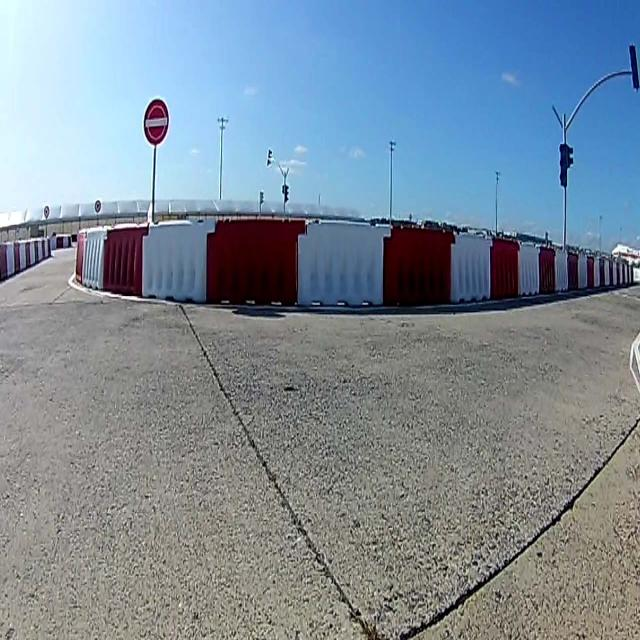girisyok: (143, 99, 169, 145)
